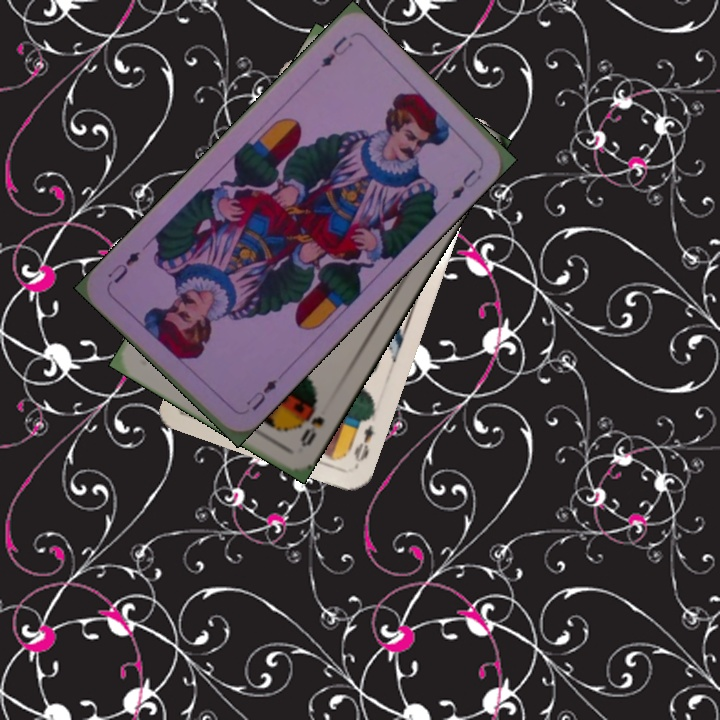EO: (349, 420, 377, 470)
EU: (316, 32, 356, 71), (242, 375, 281, 414)
SO: (296, 395, 327, 450)
